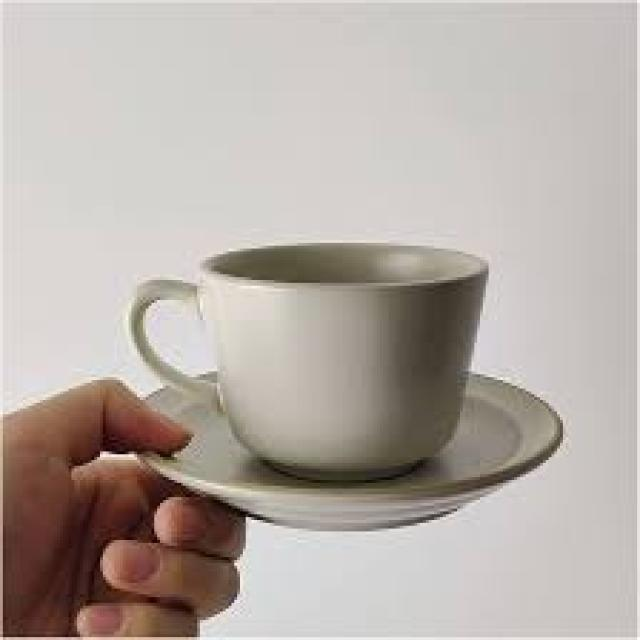taza: (126, 239, 490, 482)
